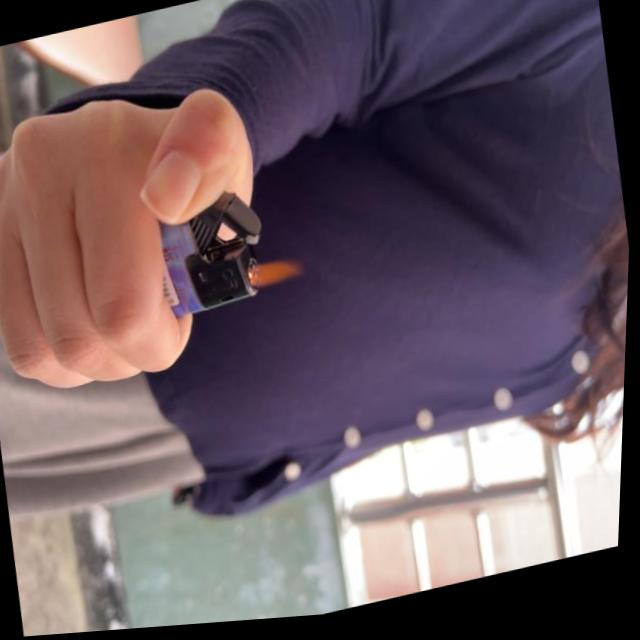Fire: (244, 255, 310, 294)
